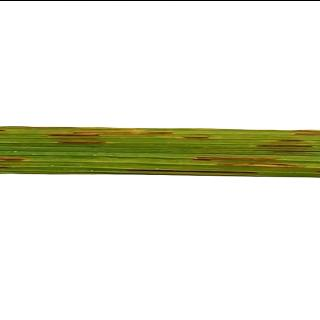Bercak-Cokelat-Sempit: (46, 122, 176, 150), (192, 154, 290, 173), (253, 132, 313, 152), (0, 156, 34, 176), (183, 130, 211, 142)
